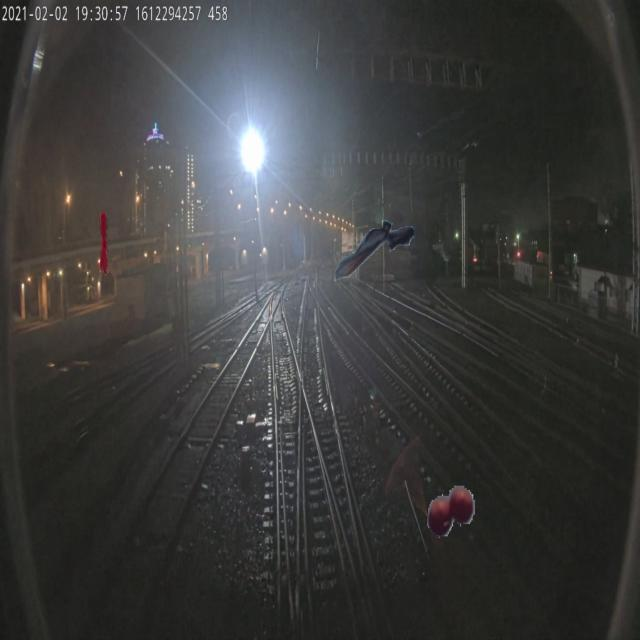balloon: (426, 476, 475, 540)
floating object: (334, 218, 415, 282), (99, 212, 108, 276)
